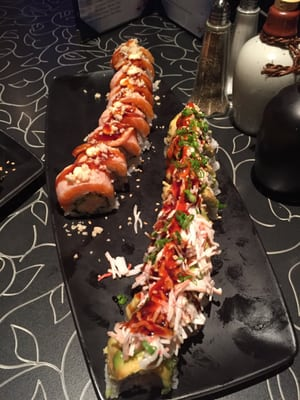burger: (231, 0, 300, 137), (191, 0, 233, 117), (225, 0, 262, 120)
curry: (0, 1, 300, 365)
